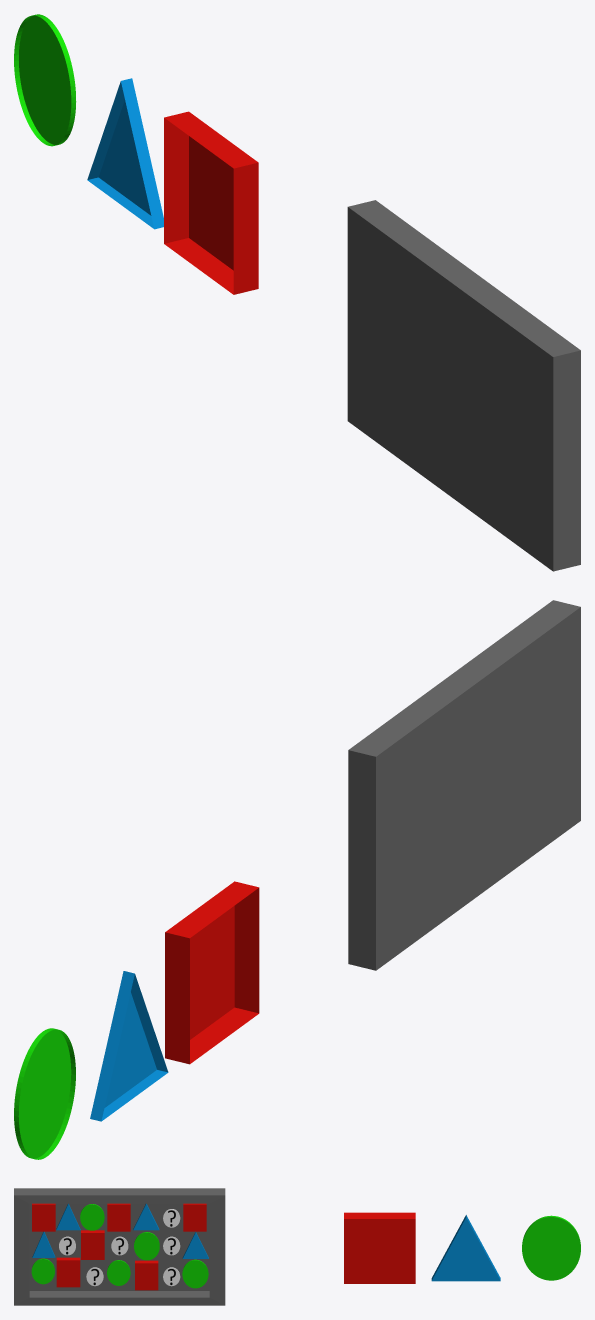
File: Mozaic Model.fbx
3 renders of one model, top to bottom at view 1: azimuth 30°, elevation 25°; view 2: azimuth 150°, elevation 25°; view 3: azimuth 270°, elevation 25°, orthographic. The views are drawn at different scales.
Visible parts, largest first — view 1: Cube.005, Cube, Cylinder.001, Cylinder; view 2: Cube.005, Cube, Cylinder.001, Cylinder; view 3: Cube.005, Cube, Cylinder.001, Cylinder, Cylinder.012, Cylinder.016, Cylinder.013, Cylinder.014, Cylinder.015, Cylinder.011.
Part boxes in pixels (x1,y1,x2,y2): Cube.005: (347,200,580,571); Cube: (164,111,258,294); Cylinder.001: (14,14,76,146); Cylinder: (87,78,163,229); Cube.005: (348,600,580,970); Cube: (165,881,259,1064); Cylinder.001: (14,1028,75,1159); Cylinder: (90,971,168,1121); Cube.005: (14,1188,225,1305); Cube: (344,1212,415,1283); Cylinder.001: (522,1215,580,1280); Cylinder: (431,1215,500,1281); Cylinder.012: (111,1236,128,1255); Cylinder.016: (86,1267,103,1286); Cylinder.013: (163,1236,180,1255); Cylinder.014: (163,1209,180,1227); Cylinder.015: (163,1267,180,1286); Cylinder.011: (59,1236,75,1255).
Bounding box in the file's own units: 46.79 × 339 × 1581.
25 materials, 6 textured.
